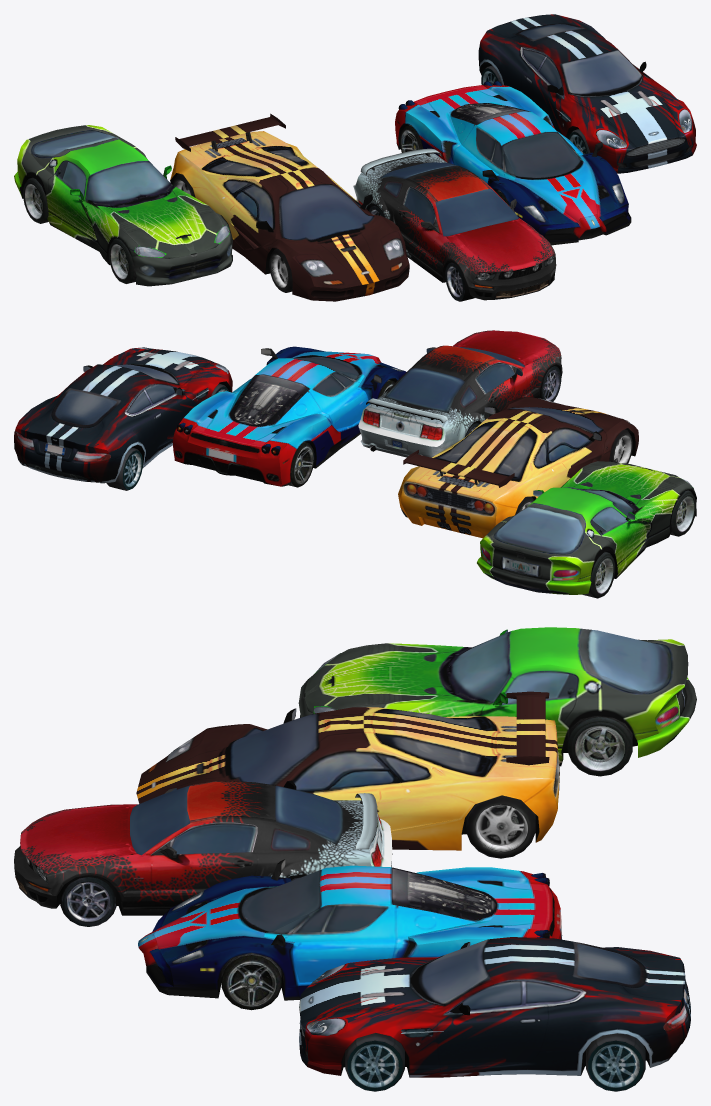
Rendered from All Cars.fbx.
3 views of the same model, one above another, from view 1: azimuth 30°, elevation 25°; view 2: azimuth 150°, elevation 25°; view 3: azimuth 270°, elevation 25° (orthographic). The views are drawn at different scales.
Parts seen in each view (by area): view 1: mclaren, viper, enzo, db9, mustang, viper_wheel, viper_wheel.001, mclaren_wheel1, mustang_wheel, enzo_wheel2; view 2: enzo, mclaren, db9, viper, mustang, viper_wheel.001, viper_wheel, db9_wheel.003, enzo_wheel2, mclaren_wheel1, mustang_wheel; view 3: db9, mclaren, enzo, mustang, viper, mclaren_wheel2.001, viper_wheel.003, db9_wheel.001, db9_wheel.002, enzo_wheel1.001, mustang_wheel.003.
Part boxes in pixels (box(x1,y1,x2,y2)): mclaren: box(170, 113, 409, 301); viper: box(14, 125, 232, 286); enzo: box(395, 81, 631, 245); db9: box(478, 14, 696, 173); mustang: box(353, 148, 556, 300); viper_wheel: box(109, 238, 136, 283); viper_wheel.001: box(23, 177, 48, 223); mclaren_wheel1: box(269, 249, 292, 292); mustang_wheel: box(445, 261, 474, 301); enzo_wheel2: box(400, 125, 423, 152); enzo: box(172, 346, 406, 486); mclaren: box(398, 397, 638, 538); db9: box(14, 347, 232, 483); viper: box(477, 461, 696, 594); mustang: box(358, 330, 562, 457); viper_wheel.001: box(582, 552, 615, 598); viper_wheel: box(670, 490, 696, 536); db9_wheel.003: box(106, 447, 142, 490); enzo_wheel2: box(289, 441, 314, 487); mclaren_wheel1: box(609, 429, 632, 463); mustang_wheel: box(539, 365, 561, 401); db9: box(299, 937, 690, 1077); mclaren: box(136, 691, 559, 850); enzo: box(138, 859, 562, 1000); mustang: box(14, 781, 392, 915); viper: box(298, 627, 696, 766); mclaren_wheel2.001: box(466, 795, 535, 858); viper_wheel.003: box(567, 716, 632, 776); db9_wheel.001: box(586, 1033, 645, 1091); db9_wheel.002: box(345, 1033, 404, 1091); enzo_wheel1.001: box(221, 952, 281, 1010); mustang_wheel.003: box(60, 875, 116, 926).
Bounding box in the file's own units: 1078 × 137 × 806.
42 materials, 42 textured.
